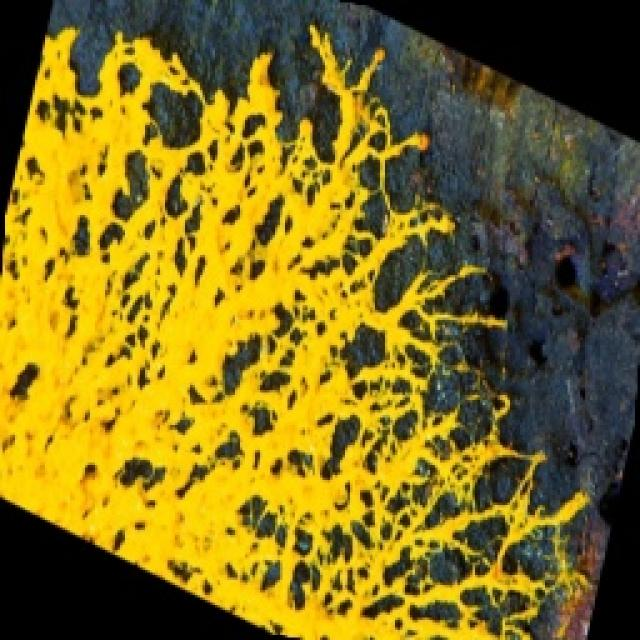Dog_vomit_slime_mold: (9, 36, 598, 637)
